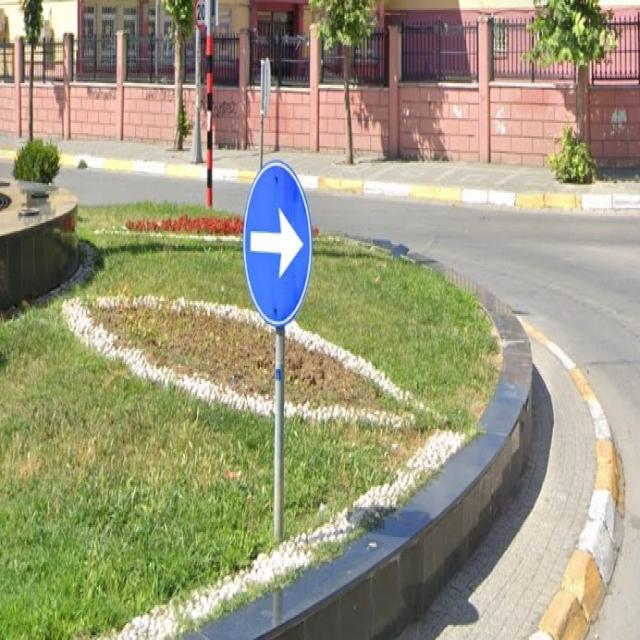Turn Right: (239, 162, 318, 330)
